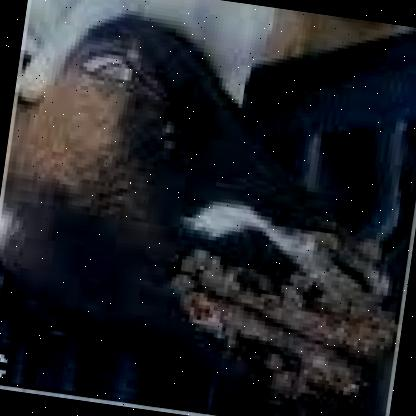ppr: (174, 227, 402, 409)
